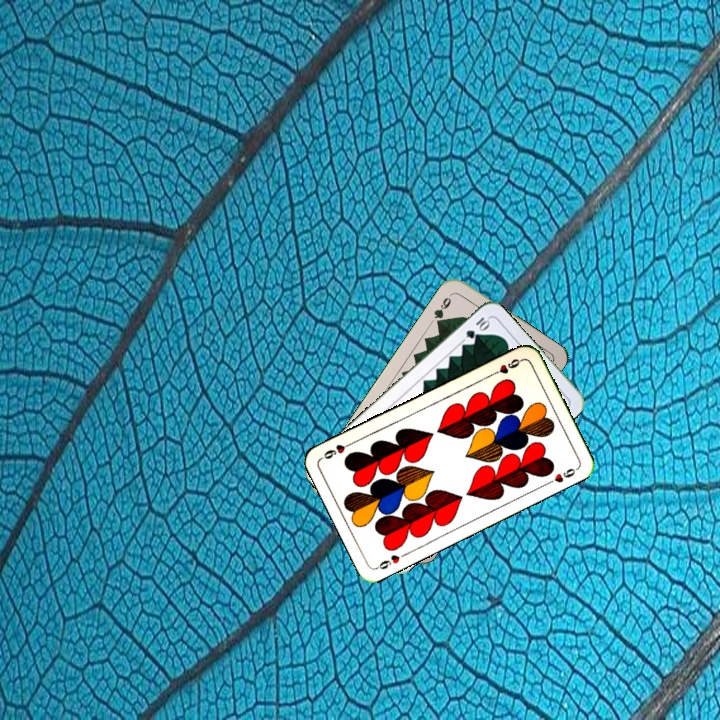G10: (462, 313, 492, 341)
G9: (429, 289, 455, 328)
H9: (487, 354, 525, 378), (372, 550, 402, 572)
